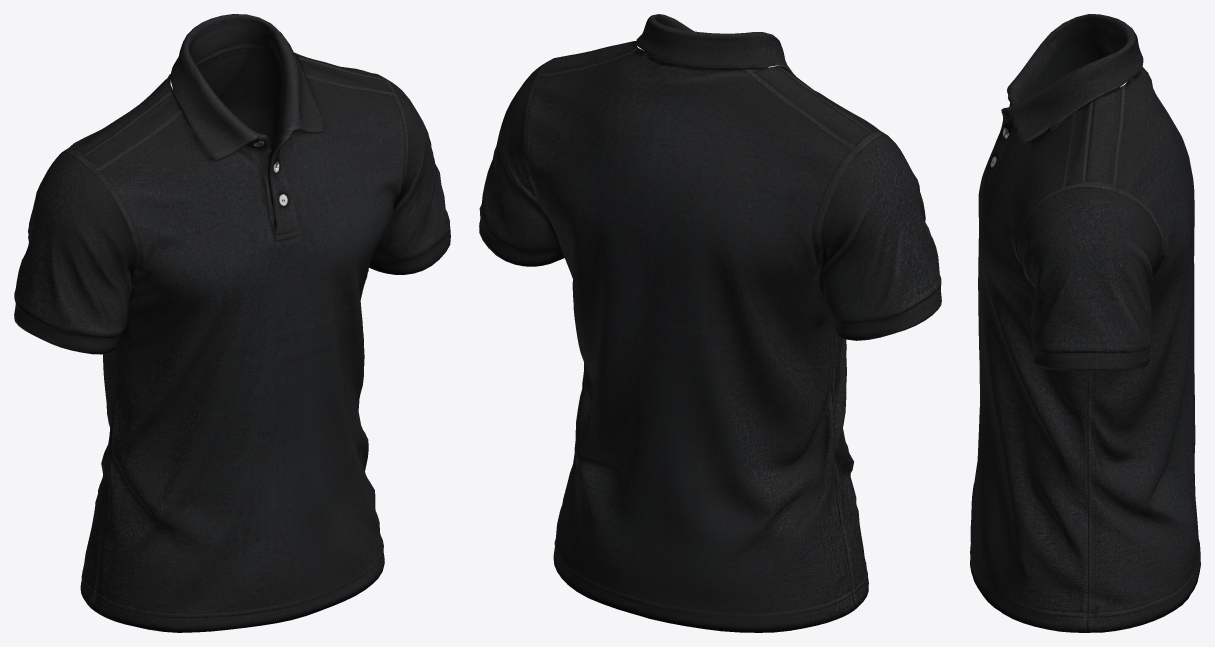
File: polo-white-buttons.glb
3 views of the same model, side by side, from view 1: azimuth 30°, elevation 25°; view 2: azimuth 150°, elevation 25°; view 3: azimuth 270°, elevation 25° (orthographic). The views are drawn at different scales.
Visible parts, largest first — view 1: tripo_node_44afafac; view 2: tripo_node_44afafac; view 3: tripo_node_44afafac.
Boxes of the visible parts, x1,y1,x2,y2 form: tripo_node_44afafac: (14, 14, 450, 632); tripo_node_44afafac: (479, 14, 941, 632); tripo_node_44afafac: (970, 14, 1200, 632).
Size of the model in its own units: 79.87 by 97.93 by 38.16.
1 material, 1 textured.
